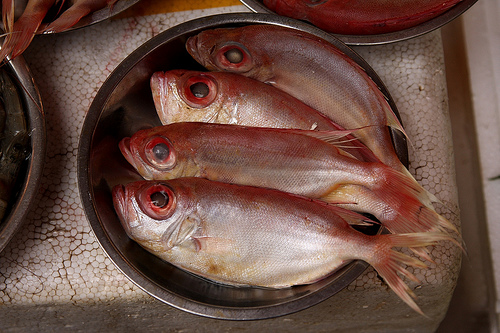fish: (110, 178, 465, 317)
